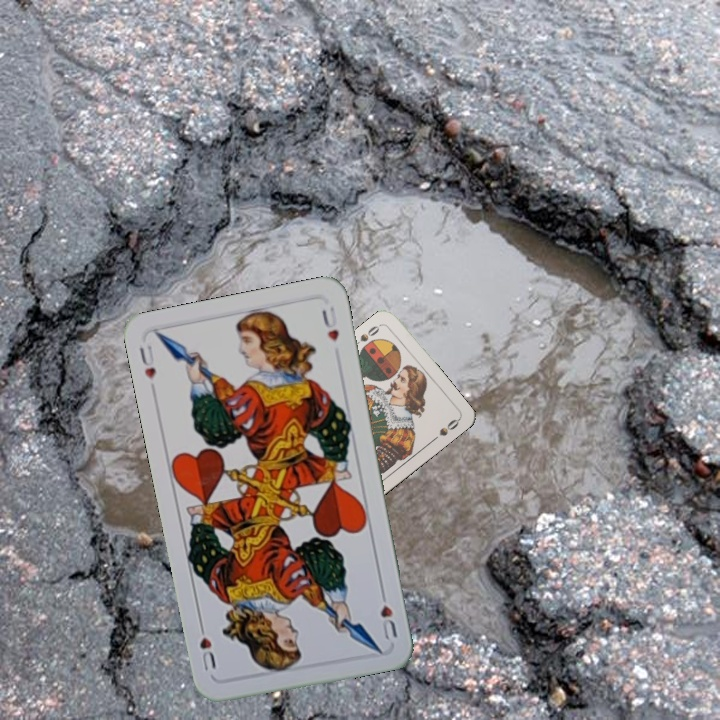HU: (376, 585, 400, 643), (135, 341, 159, 381)
SO: (356, 320, 385, 344)
